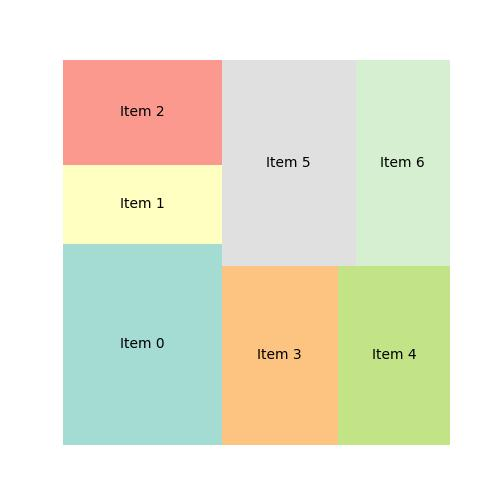rectangle: (61, 245, 224, 446), (223, 59, 356, 266), (223, 266, 338, 446), (337, 266, 451, 446), (357, 59, 449, 266), (64, 59, 223, 164), (64, 166, 224, 245)
